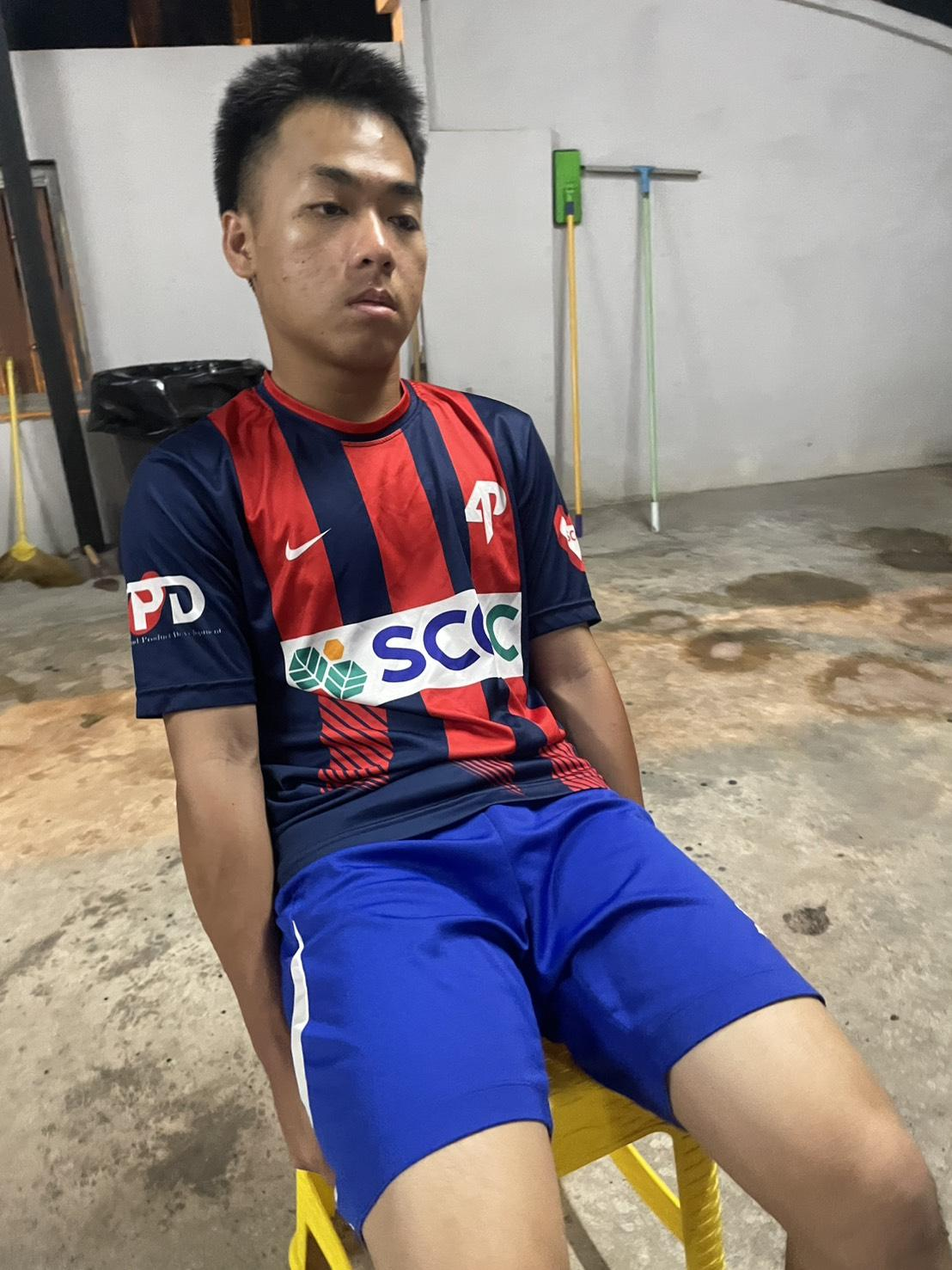BadPosture: (120, 40, 951, 1269), (122, 43, 639, 885)
